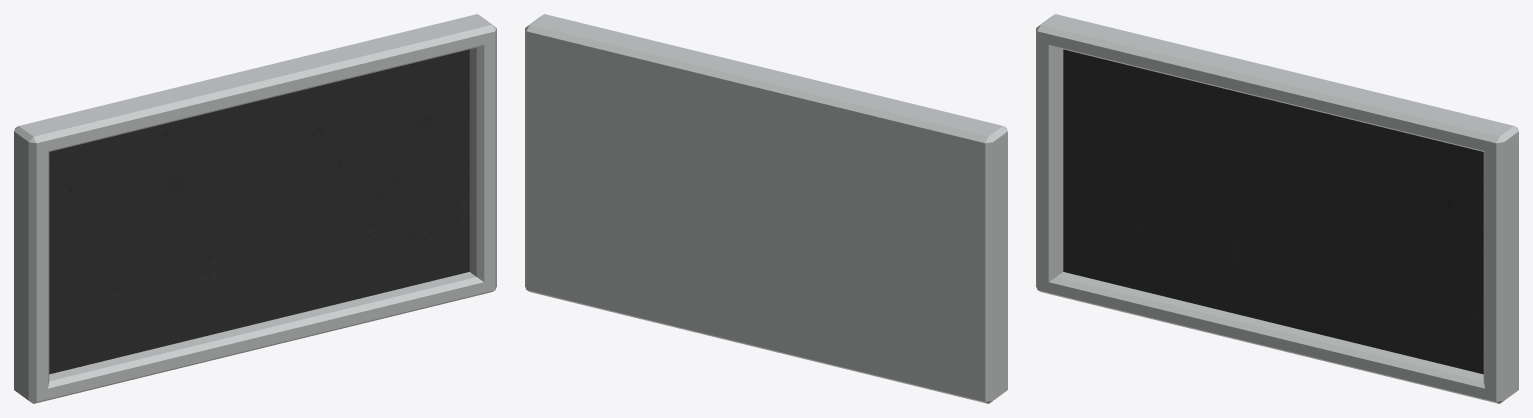
Rendered from Board.fbx.
The picture shows the model from 3 angles, left to right: view 1: azimuth 30°, elevation 25°; view 2: azimuth 150°, elevation 25°; view 3: azimuth 330°, elevation 25°; orthographic projection.
Parts seen in each view (by area): view 1: pCube41; view 2: pCube41; view 3: pCube41.
Boxes of the visible parts, box(x1,y1,x2,y2) form: pCube41: box(14, 14, 496, 403); pCube41: box(525, 14, 1007, 403); pCube41: box(1036, 14, 1518, 403).
Size of the model in its own units: 1.18 by 0.6443 by 0.0922.
